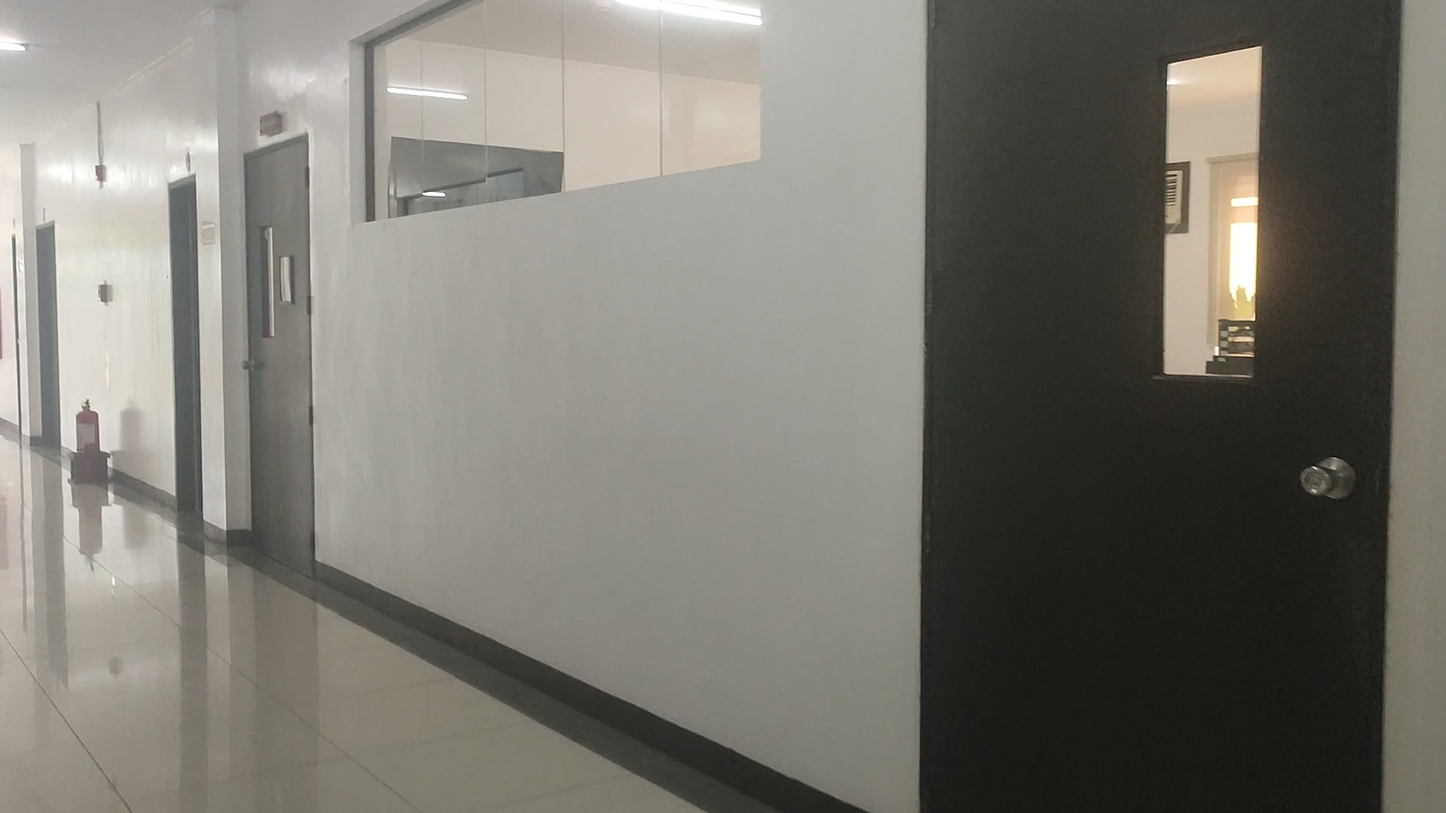door: (916, 0, 1401, 813), (243, 136, 316, 556)
